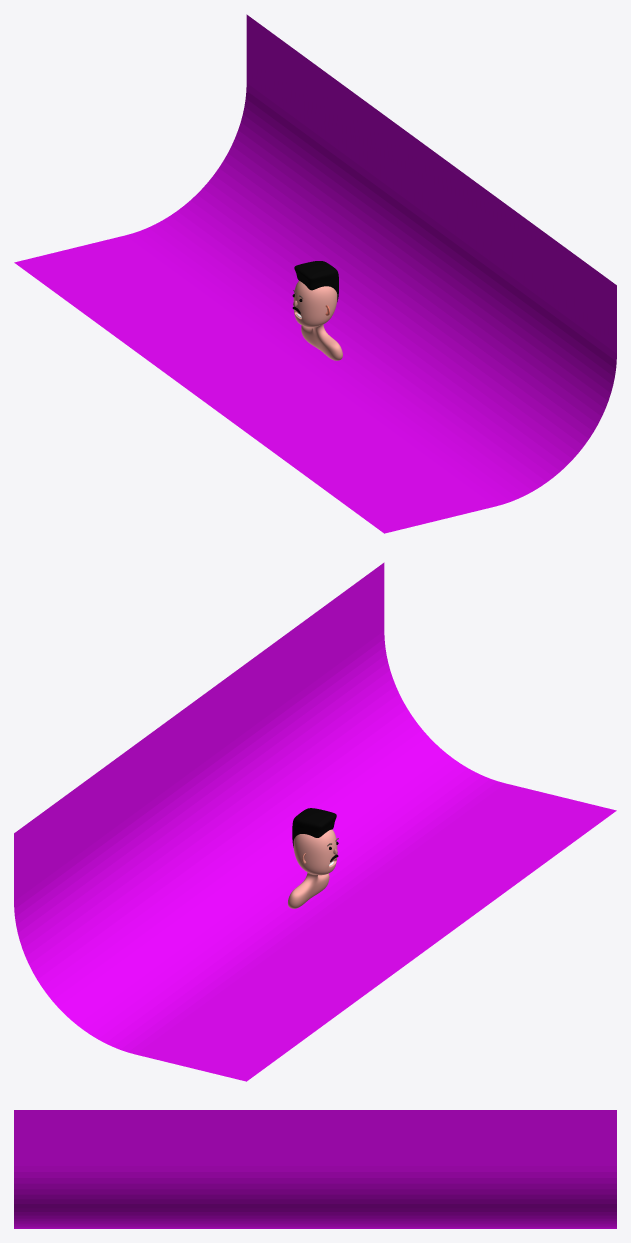
The model's file is shocked.glb.
3 renders of one model, top to bottom at view 1: azimuth 30°, elevation 25°; view 2: azimuth 150°, elevation 25°; view 3: azimuth 270°, elevation 25°, orthographic. The views are drawn at different scales.
Parts seen in each view (by area): view 1: Plane_2, Cube_8, Cube.004_12; view 2: Plane_2, Cube_8, Cube.004_12; view 3: Plane_2.
Boxes of the visible parts, <box> form: Plane_2: <box>14,14,616,533</box>; Cube_8: <box>293,281,342,360</box>; Cube.004_12: <box>294,261,338,301</box>; Plane_2: <box>14,562,616,1081</box>; Cube_8: <box>288,829,337,908</box>; Cube.004_12: <box>292,808,336,847</box>; Plane_2: <box>14,1110,616,1228</box>.
Bounding box in the file's own units: 2.44 × 1.92 × 6.72.
